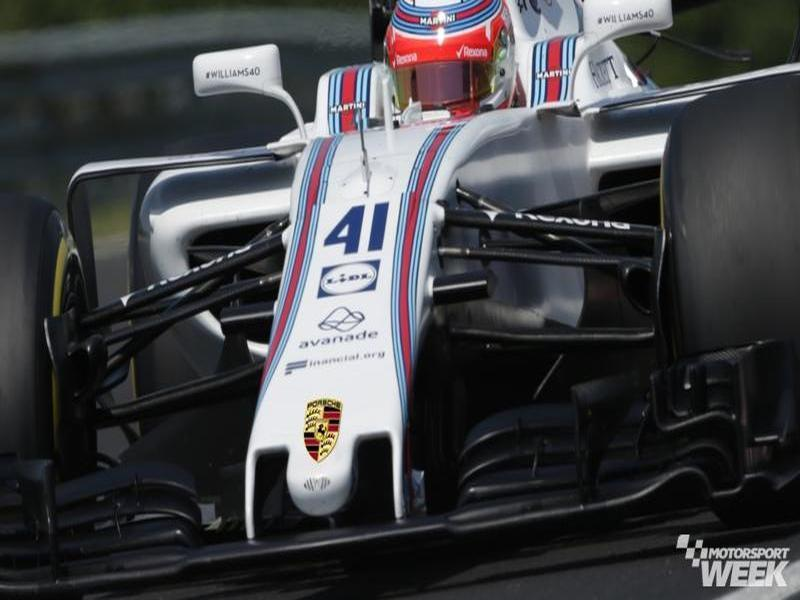f1: (1, 1, 800, 562)
